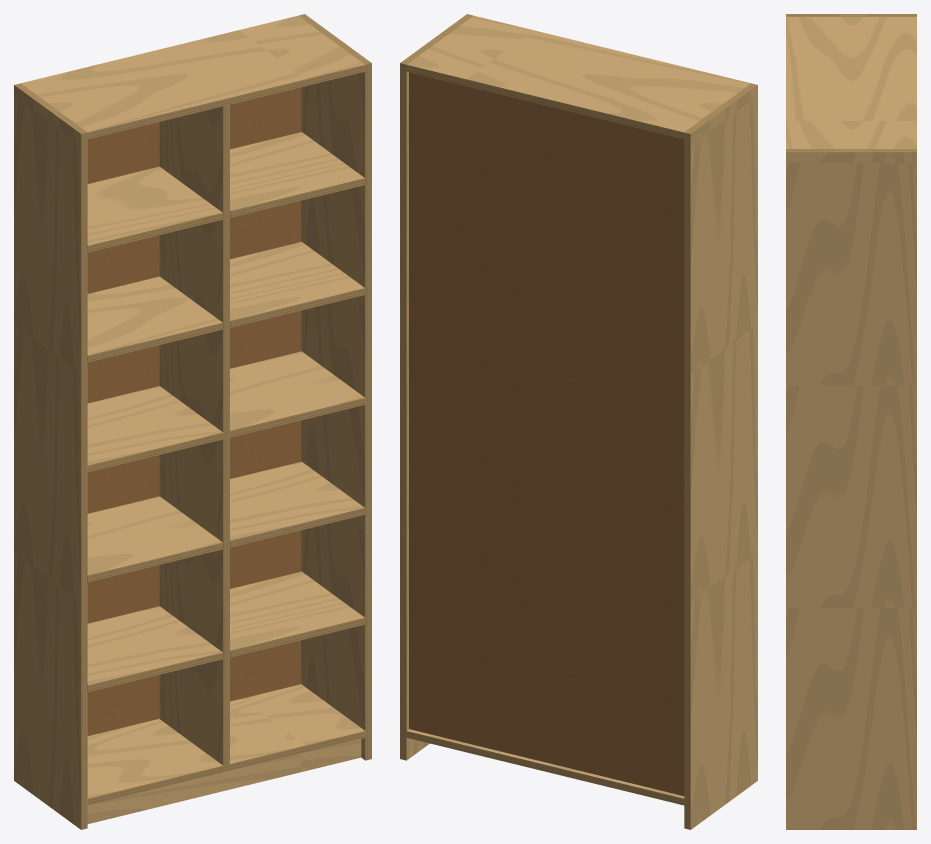
File: HIN-BKC-std.glb
3 renders of one model, left to right at view 1: azimuth 30°, elevation 25°; view 2: azimuth 150°, elevation 25°; view 3: azimuth 270°, elevation 25°, orthographic. The views are drawn at different scales.
Parts seen in each view (by area): view 1: side-l:sheet:eyJtIjoicGx5Iiwic2lkZSI6ImZhY2UiLCJzZWVkIjoxLCJ, back:sheet:eyJtIjoibWRmIiwic2lkZSI6ImZhY2UiLCJzZWVkIjo0LCJ0a, side-r:sheet:eyJtIjoicGx5Iiwic2lkZSI6ImZhY2UiLCJzZWVkIjozLCJ, partition:sheet:eyJtIjoicGx5Iiwic2lkZSI6ImZhY2UiLCJzZWVkIjo0, top:sheet:eyJtIjoicGx5Iiwic2lkZSI6ImZhY2UiLCJzZWVkIjo2LCJ2ZW, bottom:sheet:eyJtIjoicGx5Iiwic2lkZSI6ImZhY2UiLCJzZWVkIjowLCJ, shelf-fixedl:sheet:eyJtIjoicGx5Iiwic2lkZSI6ImZhY2UiLCJzZWVkI, shelf-3:sheet:eyJtIjoicGx5Iiwic2lkZSI6ImZhY2UiLCJzZWVkIjoxLC, shelf-5:sheet:eyJtIjoicGx5Iiwic2lkZSI6ImZhY2UiLCJzZWVkIjo2LC, shelf-7:sheet:eyJtIjoicGx5Iiwic2lkZSI6ImZhY2UiLCJzZWVkIjo0LC, shelf-1:sheet:eyJtIjoicGx5Iiwic2lkZSI6ImZhY2UiLCJzZWVkIjoyLC, shelf-fixedr:sheet:eyJtIjoicGx5Iiwic2lkZSI6ImZhY2UiLCJzZWVkI (+20 smaller); view 2: back:sheet:eyJtIjoibWRmIiwic2lkZSI6ImZhY2UiLCJzZWVkIjo0LCJ0a, side-l:sheet:eyJtIjoicGx5Iiwic2lkZSI6ImZhY2UiLCJzZWVkIjoxLCJ, top:sheet:eyJtIjoicGx5Iiwic2lkZSI6ImZhY2UiLCJzZWVkIjo2LCJ2ZW, side-l:sheet:eyJtIjoicGx5Iiwic2lkZSI6ImVkZ2UtbG9uZyIsInNlZWQ, side-r:sheet:eyJtIjoicGx5Iiwic2lkZSI6ImVkZ2UtbG9uZyIsInNlZWQ, side-r:sheet:eyJtIjoicGx5Iiwic2lkZSI6ImZhY2UiLCJzZWVkIjozLCJ, bottom:sheet:eyJtIjoicGx5Iiwic2lkZSI6ImVkZ2UtbG9uZyIsInNlZWQ, top:sheet:eyJtIjoicGx5Iiwic2lkZSI6ImVkZ2UtbG9uZyIsInNlZWQiOj, bottom:sheet:eyJtIjoicGx5Iiwic2lkZSI6ImZhY2UiLCJzZWVkIjowLCJ; view 3: side-r:sheet:eyJtIjoicGx5Iiwic2lkZSI6ImZhY2UiLCJzZWVkIjozLCJ, top:sheet:eyJtIjoicGx5Iiwic2lkZSI6ImZhY2UiLCJzZWVkIjo2LCJ2ZW, side-r:sheet:eyJtIjoicGx5Iiwic2lkZSI6ImVkZ2UtZW5kIiwic2VlZCI, side-l:sheet:eyJtIjoicGx5Iiwic2lkZSI6ImVkZ2UtZW5kIiwic2VlZCI.
Boxes of the visible parts, left/top/right/bottom form: side-l:sheet:eyJtIjoicGx5Iiwic2lkZSI6ImZhY2UiLCJzZWVkIjoxLCJ: left=14, top=85, right=81, bottom=829; back:sheet:eyJtIjoibWRmIiwic2lkZSI6ImZhY2UiLCJzZWVkIjo0LCJ0a: left=87, top=87, right=301, bottom=735; side-r:sheet:eyJtIjoicGx5Iiwic2lkZSI6ImZhY2UiLCJzZWVkIjozLCJ: left=301, top=71, right=365, bottom=760; partition:sheet:eyJtIjoicGx5Iiwic2lkZSI6ImZhY2UiLCJzZWVkIjo0: left=159, top=106, right=223, bottom=765; top:sheet:eyJtIjoicGx5Iiwic2lkZSI6ImZhY2UiLCJzZWVkIjo2LCJ2ZW: left=21, top=15, right=364, bottom=132; bottom:sheet:eyJtIjoicGx5Iiwic2lkZSI6ImZhY2UiLCJzZWVkIjowLCJ: left=87, top=684, right=364, bottom=798; shelf-fixedl:sheet:eyJtIjoicGx5Iiwic2lkZSI6ImZhY2UiLCJzZWVkI: left=87, top=386, right=222, bottom=465; shelf-3:sheet:eyJtIjoicGx5Iiwic2lkZSI6ImZhY2UiLCJzZWVkIjoxLC: left=87, top=496, right=222, bottom=575; shelf-5:sheet:eyJtIjoicGx5Iiwic2lkZSI6ImZhY2UiLCJzZWVkIjo2LC: left=87, top=276, right=222, bottom=355; shelf-7:sheet:eyJtIjoicGx5Iiwic2lkZSI6ImZhY2UiLCJzZWVkIjo0LC: left=87, top=166, right=222, bottom=245; shelf-1:sheet:eyJtIjoicGx5Iiwic2lkZSI6ImZhY2UiLCJzZWVkIjoyLC: left=87, top=606, right=222, bottom=685; shelf-fixedr:sheet:eyJtIjoicGx5Iiwic2lkZSI6ImZhY2UiLCJzZWVkI: left=230, top=351, right=364, bottom=430; back:sheet:eyJtIjoibWRmIiwic2lkZSI6ImZhY2UiLCJzZWVkIjo0LCJ0a: left=409, top=72, right=684, bottom=795; side-l:sheet:eyJtIjoicGx5Iiwic2lkZSI6ImZhY2UiLCJzZWVkIjoxLCJ: left=690, top=85, right=757, bottom=829; top:sheet:eyJtIjoicGx5Iiwic2lkZSI6ImZhY2UiLCJzZWVkIjo2LCJ2ZW: left=407, top=15, right=750, bottom=132; side-l:sheet:eyJtIjoicGx5Iiwic2lkZSI6ImVkZ2UtbG9uZyIsInNlZWQ: left=684, top=132, right=690, bottom=829; side-r:sheet:eyJtIjoicGx5Iiwic2lkZSI6ImVkZ2UtbG9uZyIsInNlZWQ: left=400, top=63, right=406, bottom=760; side-r:sheet:eyJtIjoicGx5Iiwic2lkZSI6ImZhY2UiLCJzZWVkIjozLCJ: left=406, top=71, right=429, bottom=760; bottom:sheet:eyJtIjoicGx5Iiwic2lkZSI6ImVkZ2UtbG9uZyIsInNlZWQ: left=406, top=731, right=684, bottom=805; top:sheet:eyJtIjoicGx5Iiwic2lkZSI6ImVkZ2UtbG9uZyIsInNlZWQiOj: left=406, top=65, right=684, bottom=138; bottom:sheet:eyJtIjoicGx5Iiwic2lkZSI6ImZhY2UiLCJzZWVkIjowLCJ: left=407, top=729, right=684, bottom=798; side-r:sheet:eyJtIjoicGx5Iiwic2lkZSI6ImZhY2UiLCJzZWVkIjozLCJ: left=786, top=152, right=916, bottom=829; top:sheet:eyJtIjoicGx5Iiwic2lkZSI6ImZhY2UiLCJzZWVkIjo2LCJ2ZW: left=786, top=17, right=916, bottom=148; side-r:sheet:eyJtIjoicGx5Iiwic2lkZSI6ImVkZ2UtZW5kIiwic2VlZCI: left=786, top=149, right=916, bottom=152; side-l:sheet:eyJtIjoicGx5Iiwic2lkZSI6ImVkZ2UtZW5kIiwic2VlZCI: left=786, top=14, right=916, bottom=16.
Bounding box in the file's own units: 0.8 × 1.83 × 0.32.
51 materials, 51 textured.
